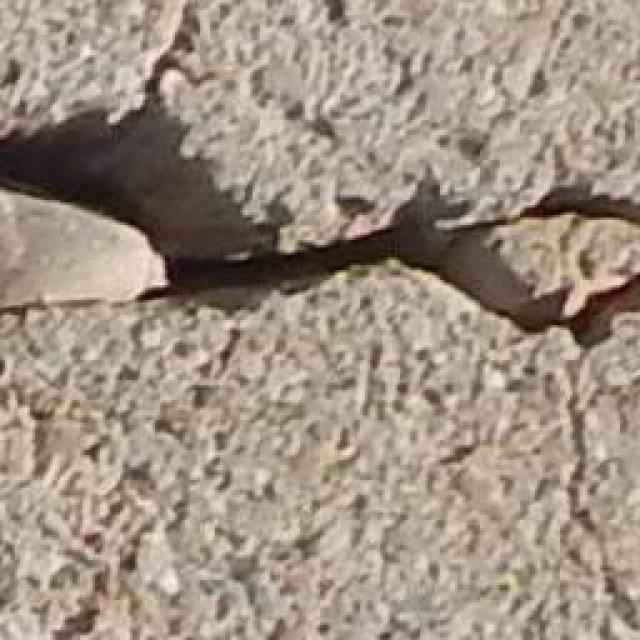concrete-crack: (0, 0, 639, 363), (547, 363, 640, 640)
